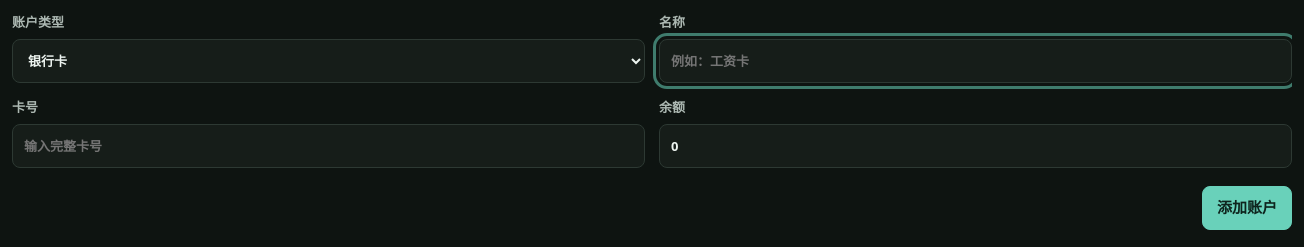
Test: Finance forms › shows only the fields required by each account type
Expected: the field labelled "名称" is shown, [659,39,1292,83]
Expected: the field labelled "卡号" is shown, [12,124,645,168]
Select "信用卡" in the dropdown labelled "账户类型": (328, 61) [12,39,645,83]
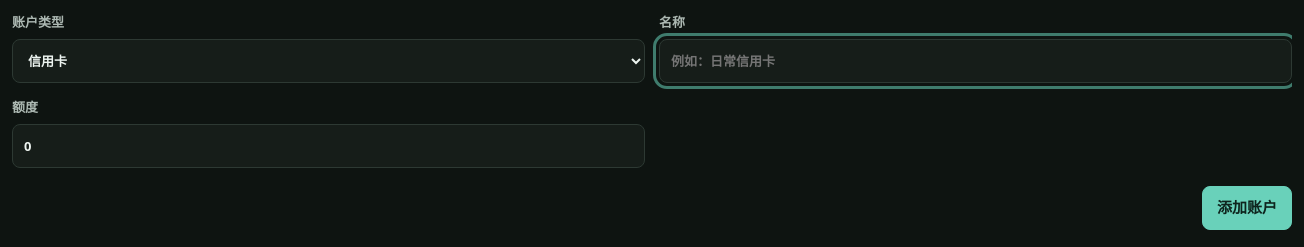
Expected: the field labelled "名称" is shown, [659,39,1292,83]
Now the text labelled "卡号" is gone
Now the text labelled "余额" is gone
Select "微信" in the dropdown labelled "账户类型": (328, 61) [12,39,645,83]
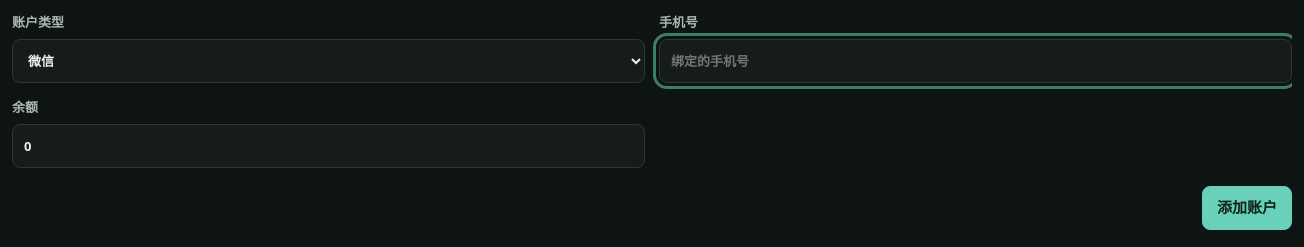
Expected: the number field labelled "余额" is shown, [12,124,645,168]
Now the field labelled "手机号" is shown, box [659,39,1292,83]
Now the text labelled "名称" is gone
Select "现金" in the dropdown labelled "账户类型": (328, 61) [12,39,645,83]
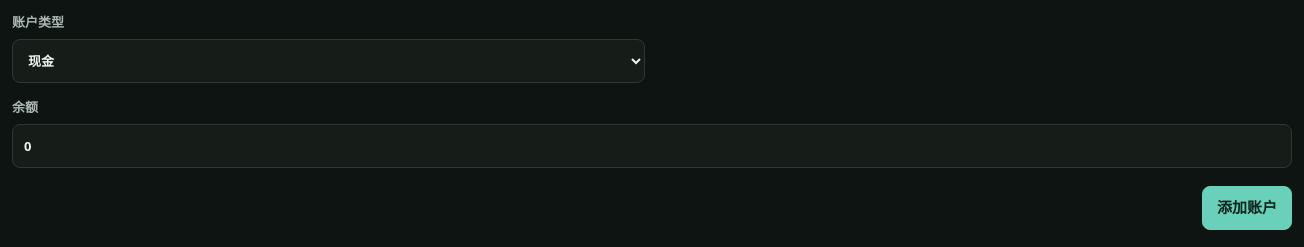
Expected: the number field labelled "余额" is shown, [12,124,1292,168]
Now the text labelled "手机号" is gone
